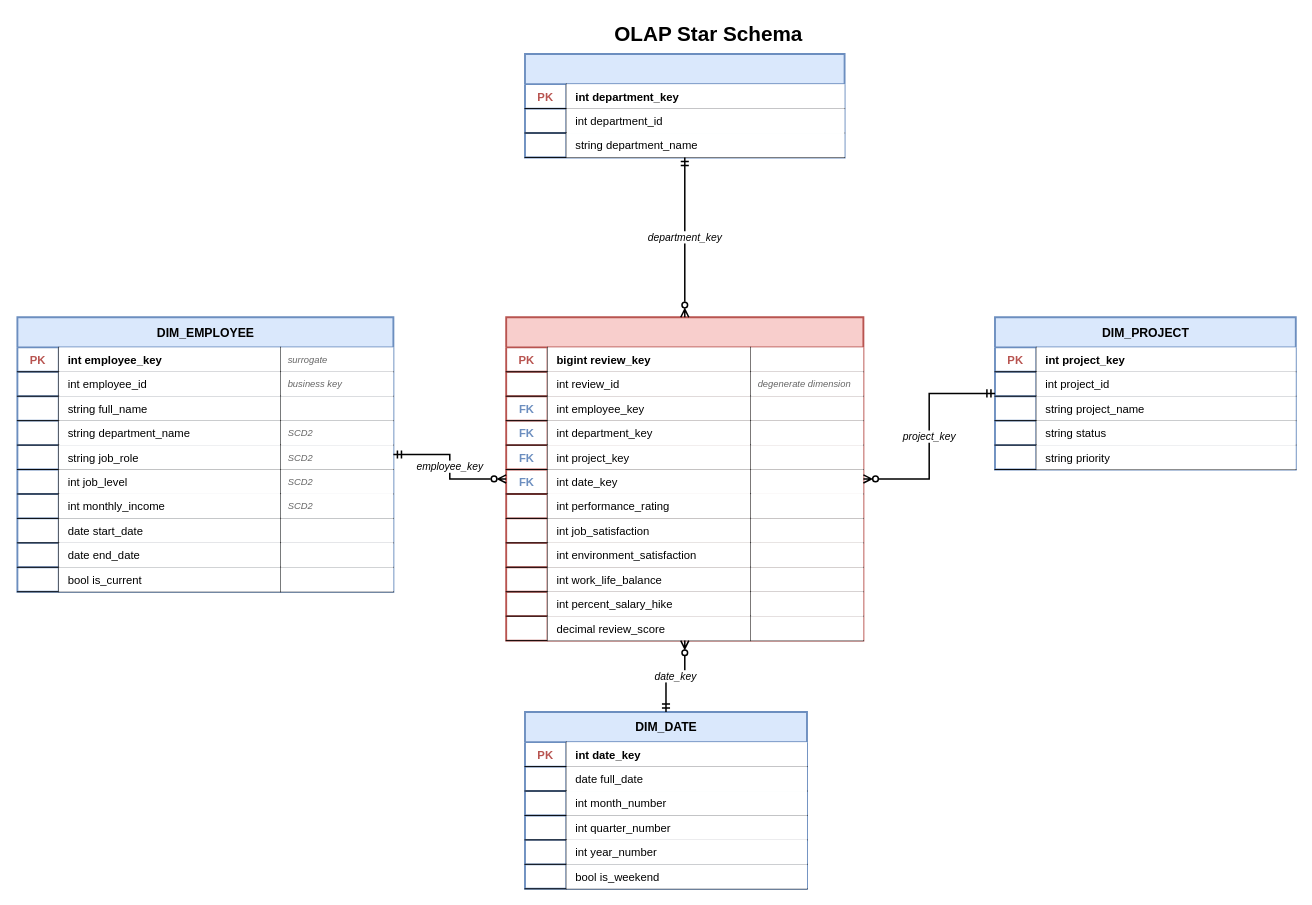
This 1312x905 diagram has some shape labels left out. Each missing label, with the box of its shape:
DIM_DEPARTMENT: (524, 53, 845, 158)
FACT_PERFORMANCE_REVIEWS: (505, 316, 864, 641)
